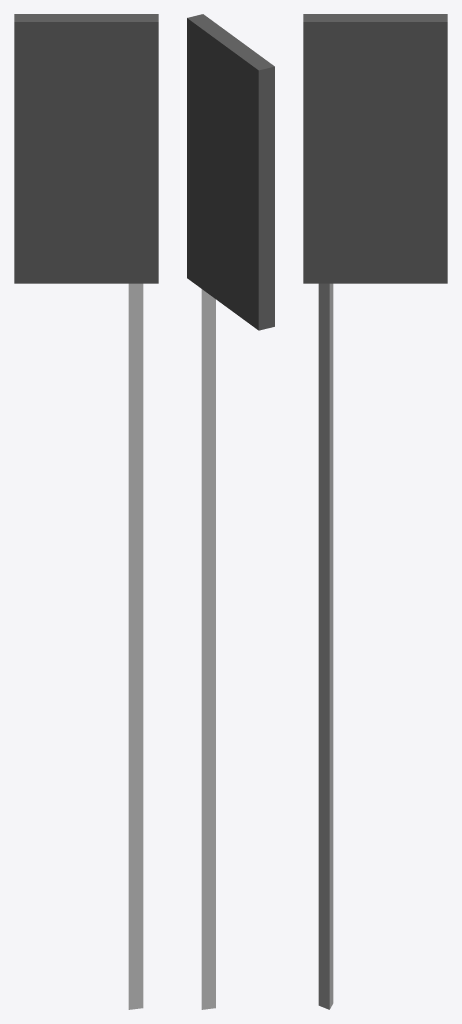
Rendered from Prop_Sign_B_col.fbx.
3 renders of one model, left to right at view 1: azimuth 90°, elevation 25°; view 2: azimuth 210°, elevation 25°; view 3: azimuth 270°, elevation 25°, orthographic.
Parts seen in each view (by area): view 1: Prop_Sign_B_col; view 2: Prop_Sign_B_col; view 3: Prop_Sign_B_col.
Boxes of the visible parts, x1,y1,x2,y2 form: Prop_Sign_B_col: (14,14,158,1009); Prop_Sign_B_col: (187,14,274,1009); Prop_Sign_B_col: (303,14,447,1009).
Bounding box in the file's own units: 6 × 348 × 46.1.
